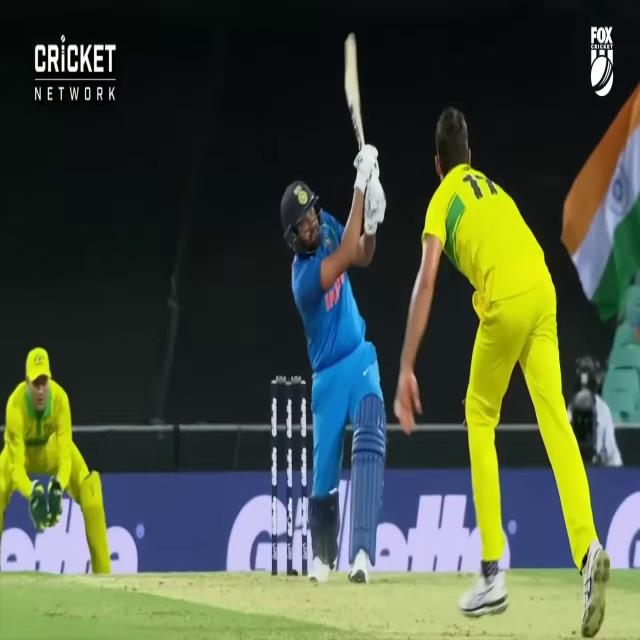stump: (273, 373, 309, 580)
